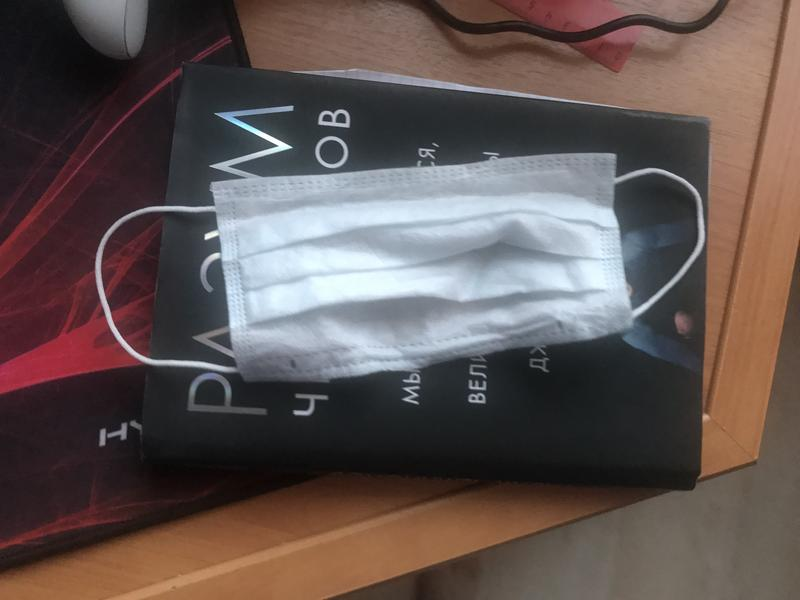medical_mask: (92, 156, 705, 379)
